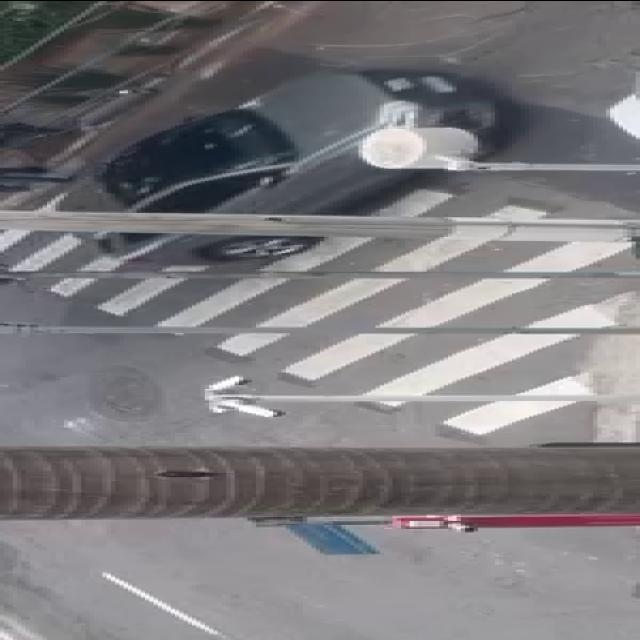car: (53, 59, 543, 278)
